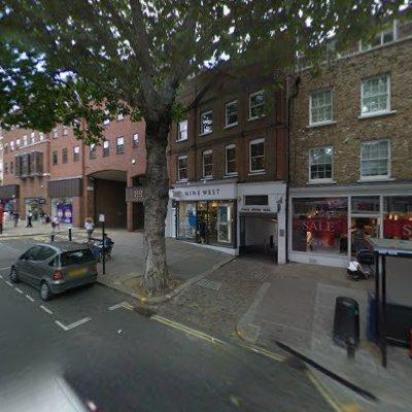stationary-car-onstreet: (9, 240, 98, 298)
